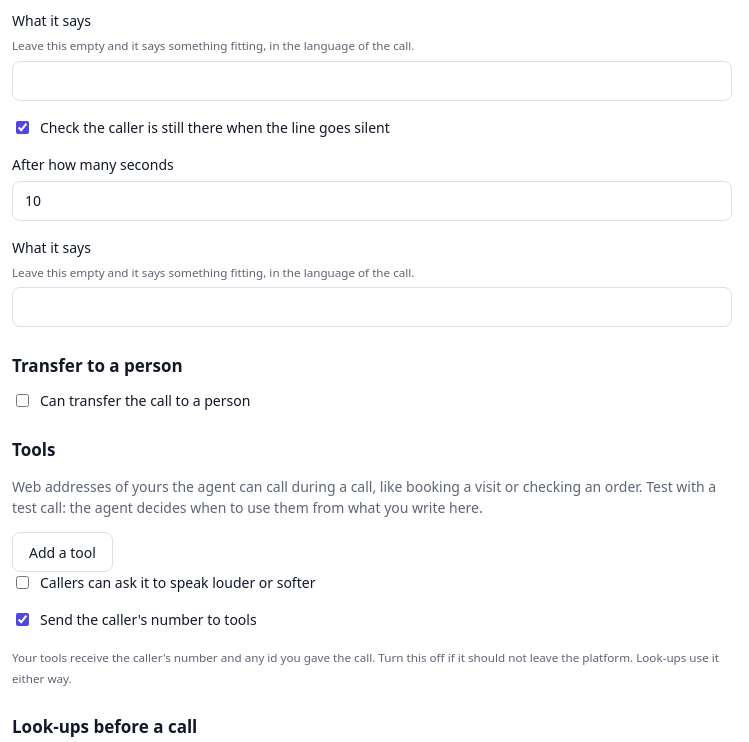
Test case: transfer to a person › is hidden until it is on, then starts with one place
(page scrolled)
expect the field labelled "Numbers" is not shown: met
Click the checkbox labelled "Can transfer the call to a person" at (22, 401), box [16,394,29,407]
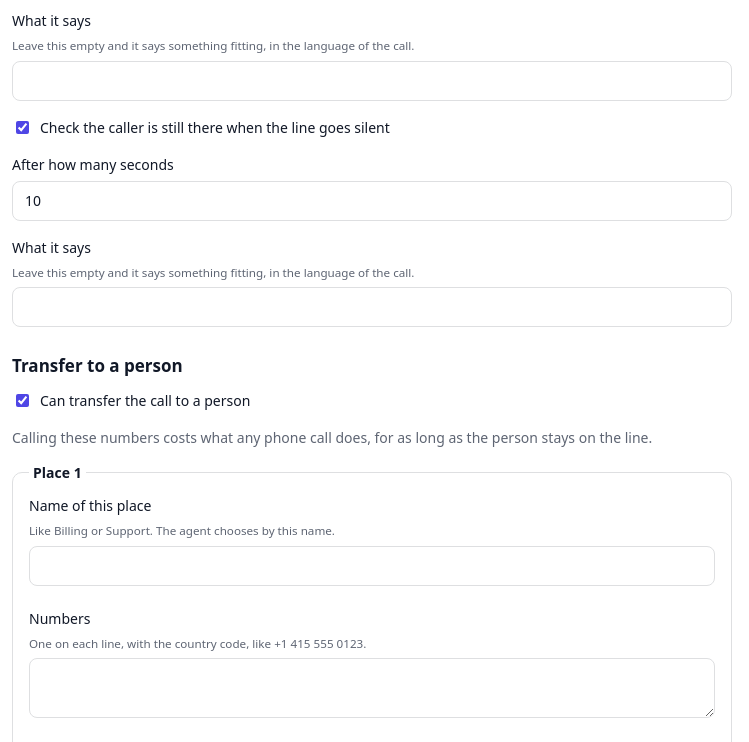
expect the text box labelled "Numbers" is shown: met, box [29,658,715,718]
